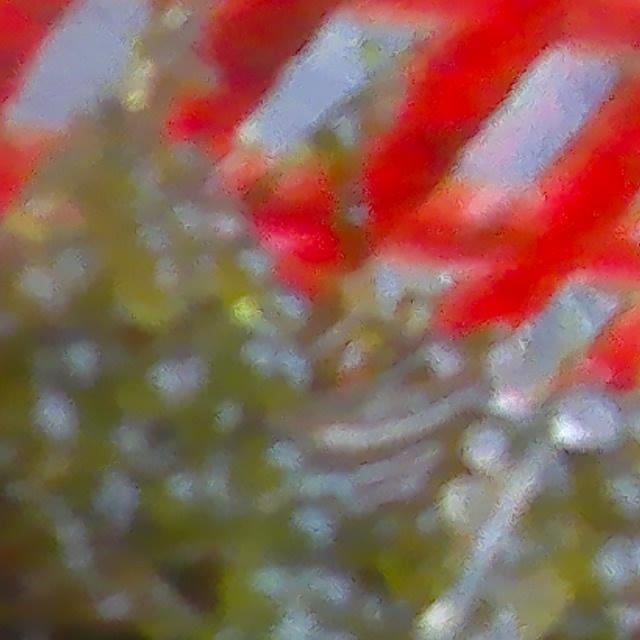SeaGrape: (481, 341, 548, 401), (562, 389, 618, 451), (440, 471, 498, 530), (460, 417, 512, 472), (419, 600, 462, 640)
